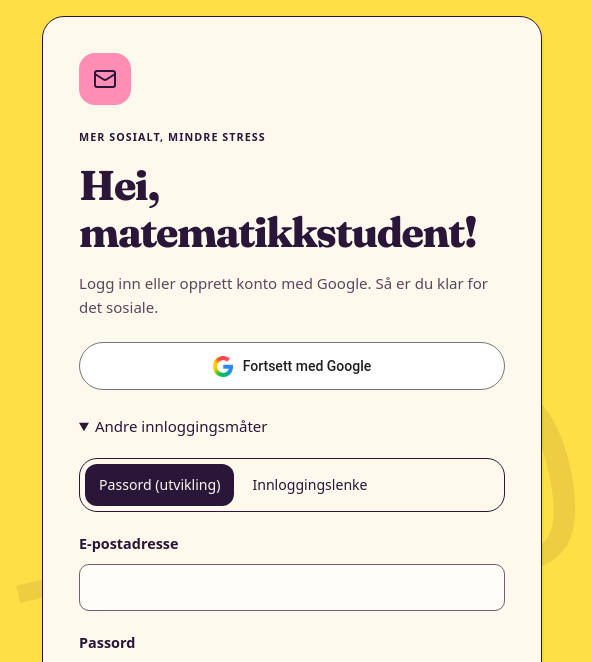
Google OAuth › blocks repeated clicks while starting OAuth and sanitizes external return paths
Click the button "Fortsett med Google". click: [292, 366]
box: top-left (79, 342), bottom-right (505, 390)
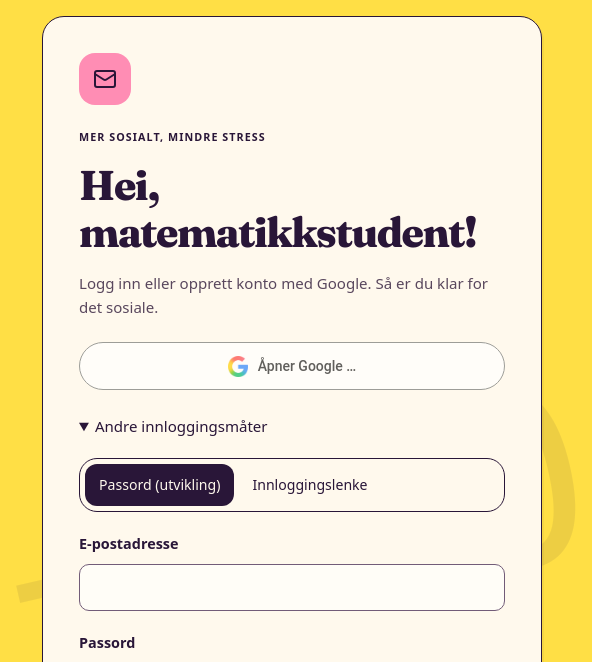
Expected: the button "Åpner Google …" is disabled
Click the button "Åpner Google …". click: [292, 366]
box: top-left (79, 342), bottom-right (505, 390)
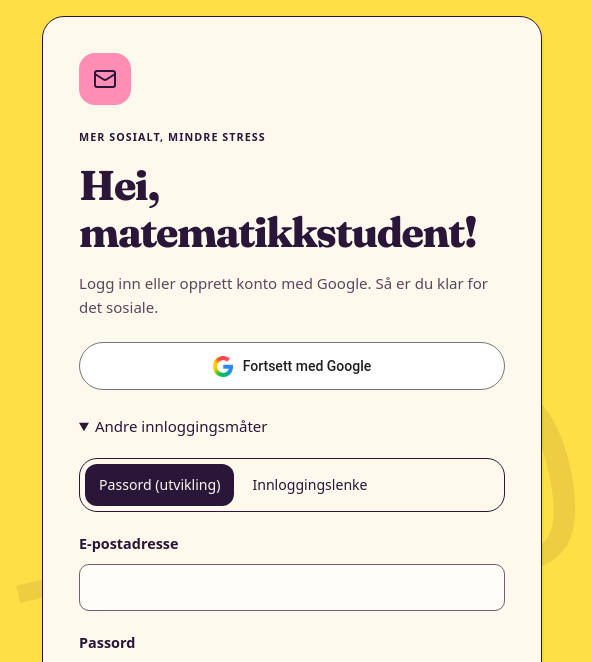
Expected: the button "Fortsett med Google" is enabled, top-left (79, 342), bottom-right (505, 390)
